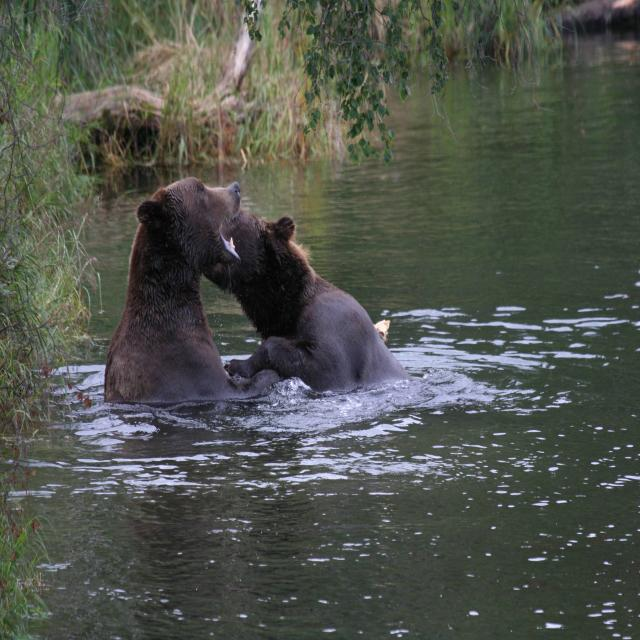bear face: (205, 218, 397, 387), (107, 177, 243, 393)
